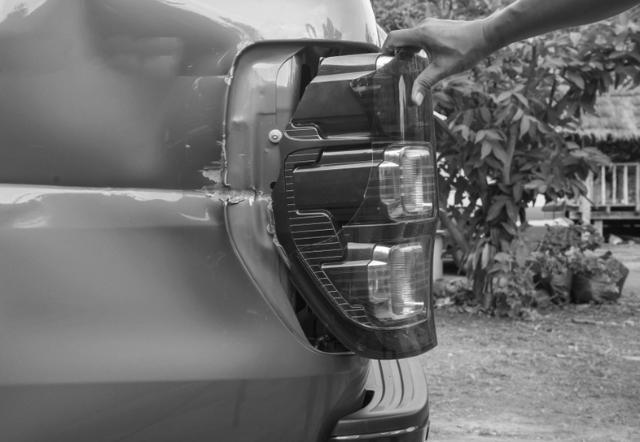Fender: (1, 1, 227, 349)
Light: (240, 40, 433, 350)
